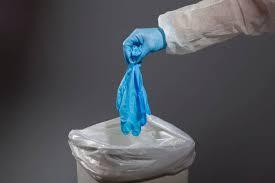Glove: (116, 59, 150, 135), (123, 28, 166, 62)
